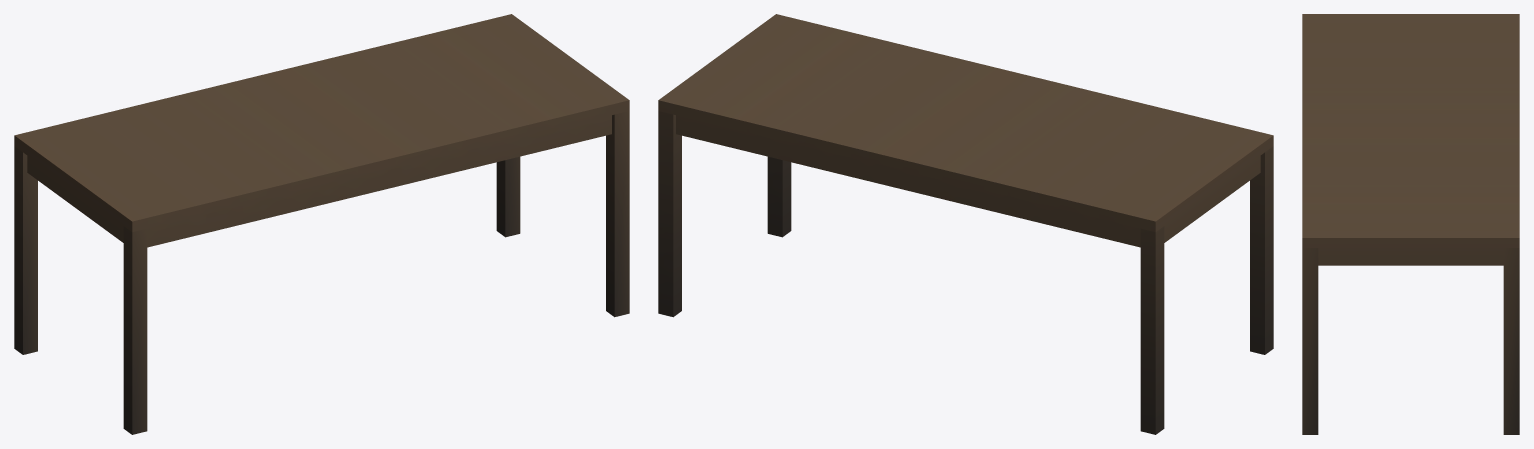
Rendered from Desk_Regular.fbx.
3 renders of one model, left to right at view 1: azimuth 30°, elevation 25°; view 2: azimuth 150°, elevation 25°; view 3: azimuth 270°, elevation 25°, orthographic. The views are drawn at different scales.
Visible parts, largest first — view 1: Desk_Regular; view 2: Desk_Regular; view 3: Desk_Regular.
Boxes of the visible parts, x1=… form: Desk_Regular: x1=14, y1=14, x2=629, y2=434; Desk_Regular: x1=658, y1=14, x2=1273, y2=434; Desk_Regular: x1=1302, y1=14, x2=1519, y2=434.
Bounding box in the file's own units: 195 × 79.94 × 80.
